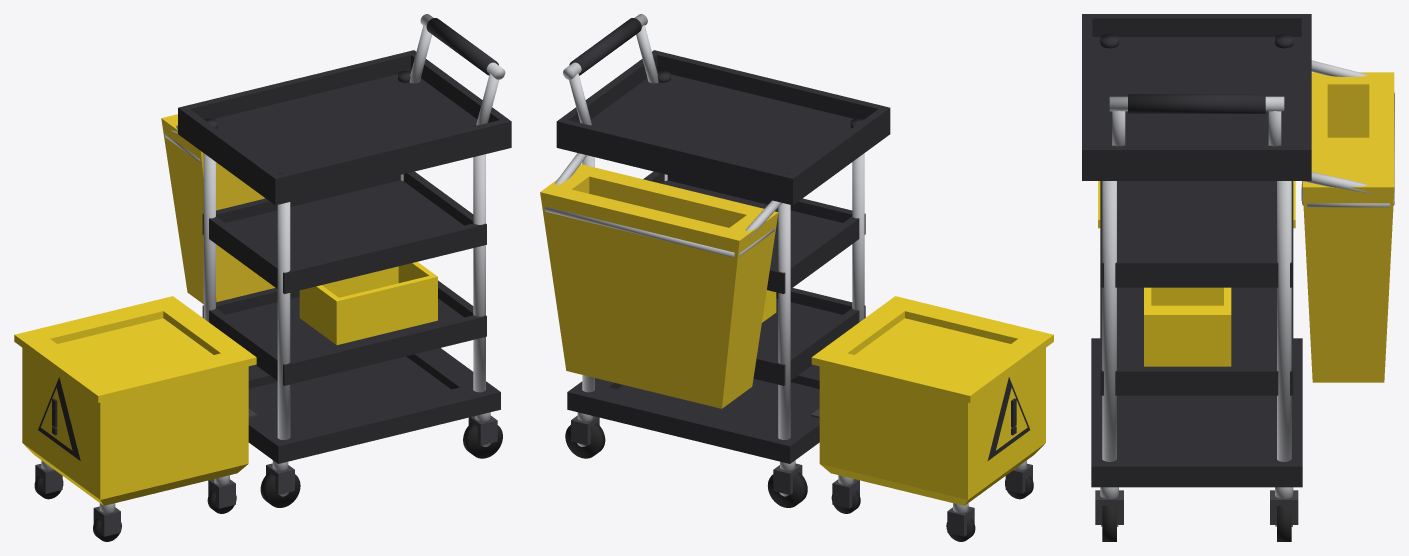
The model's file is janitor_cart.glb.
The picture shows the model from 3 angles, left to right: view 1: azimuth 30°, elevation 25°; view 2: azimuth 150°, elevation 25°; view 3: azimuth 270°, elevation 25°; orthographic projection. The views are drawn at different scales.
Parts seen in each view (by area): view 1: TopTray, Shelf_Middle, BucketBody, BasePlatform, BucketLip, Shelf_Bottom, Caddy, BagBody, Post_-1_-1, SignBacker, Post_1_-1, Post_-1_1 (+9 smaller); view 2: BagBody, TopTray, BucketBody, BucketLip, BasePlatform, Shelf_Middle, Shelf_Bottom, Post_-1_1, Post_-1_-1, SignBacker, HandleFoam, BagMouth_2 (+5 smaller); view 3: TopTray, BagBody, BasePlatform, Shelf_Middle, Shelf_Bottom, Caddy, Post_1_-1, Post_1_1, HandleFoam, HandleGrip, cart_1_-1_fork, cart_1_1_fork (+7 smaller).
Part boxes in pixels (x1,y1,x2,y2): TopTray: [178, 50, 511, 205]; Shelf_Middle: [202, 171, 486, 293]; BucketBody: [22, 348, 248, 505]; BasePlatform: [248, 348, 500, 463]; BucketLip: [14, 296, 256, 402]; Shelf_Bottom: [202, 280, 486, 385]; Caddy: [299, 261, 437, 344]; BagBody: [161, 114, 275, 303]; Post_-1_-1: [277, 202, 290, 439]; SignBacker: [38, 359, 84, 479]; Post_1_-1: [473, 154, 485, 392]; Post_-1_1: [203, 153, 215, 321]; BagBody: [540, 164, 778, 408]; TopTray: [556, 50, 890, 205]; BucketBody: [819, 348, 1045, 505]; BucketLip: [811, 296, 1053, 402]; BasePlatform: [567, 365, 819, 463]; Shelf_Middle: [643, 171, 865, 293]; Shelf_Bottom: [753, 288, 865, 385]; Post_-1_1: [778, 203, 790, 439]; Post_-1_-1: [852, 153, 864, 321]; SignBacker: [983, 371, 1015, 479]; HandleFoam: [569, 18, 641, 75]; BagMouth_2: [545, 206, 734, 257]; TopTray: [1082, 14, 1311, 180]; BagBody: [1302, 72, 1394, 382]; BasePlatform: [1091, 338, 1302, 487]; Shelf_Middle: [1100, 181, 1293, 287]; Shelf_Bottom: [1100, 287, 1293, 395]; Caddy: [1144, 287, 1231, 366]; Post_1_-1: [1102, 181, 1116, 461]; Post_1_1: [1277, 181, 1291, 461]; HandleFoam: [1128, 94, 1265, 113]; HandleGrip: [1109, 96, 1284, 111]; cart_1_-1_fork: [1095, 490, 1123, 524]; cart_1_1_fork: [1270, 490, 1298, 524].
Bounding box in the file's own units: 1.23 × 1.09 × 0.681.
